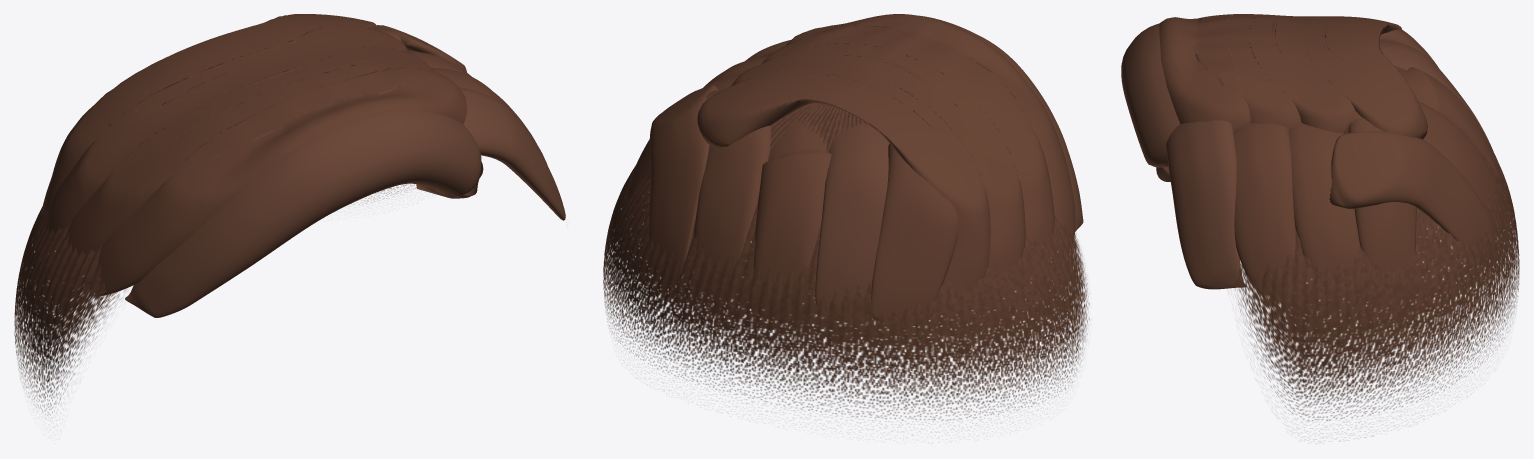
File: Masculine-taper-pashmina256-hair.glb
The picture shows the model from 3 angles, left to right: view 1: azimuth 30°, elevation 25°; view 2: azimuth 150°, elevation 25°; view 3: azimuth 270°, elevation 25°; orthographic projection. The views are drawn at different scales.
Visible parts, largest first — view 1: 226 hair / Hair252 / sculpted locks, 226 hair / Hair252 / gentle tonal variation, 226 hair / Hair256 / selected B sides; view 2: 226 hair / Hair252 / sculpted locks, 226 hair / Hair256 / selected B sides, 226 hair / Hair252 / gentle tonal variation; view 3: 226 hair / Hair252 / sculpted locks, 226 hair / Hair256 / selected B sides, 226 hair / Hair252 / gentle tonal variation.
Part boxes in pixels (x1,y1,x2,y2): 226 hair / Hair252 / sculpted locks: (41, 14, 547, 296); 226 hair / Hair252 / gentle tonal variation: (125, 87, 565, 317); 226 hair / Hair256 / selected B sides: (14, 184, 420, 415); 226 hair / Hair252 / sculpted locks: (626, 14, 1075, 323); 226 hair / Hair256 / selected B sides: (603, 103, 1089, 428); 226 hair / Hair252 / gentle tonal variation: (745, 15, 1083, 319); 226 hair / Hair252 / sculpted locks: (1159, 14, 1503, 294); 226 hair / Hair256 / selected B sides: (1234, 66, 1519, 441); 226 hair / Hair252 / gentle tonal variation: (1121, 23, 1492, 289).
Size of the model in its own units: 0.972 by 0.6191 by 0.7438.
Materials: 3 (1 with a texture image).
